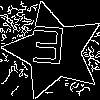E: (29, 26, 67, 74)
